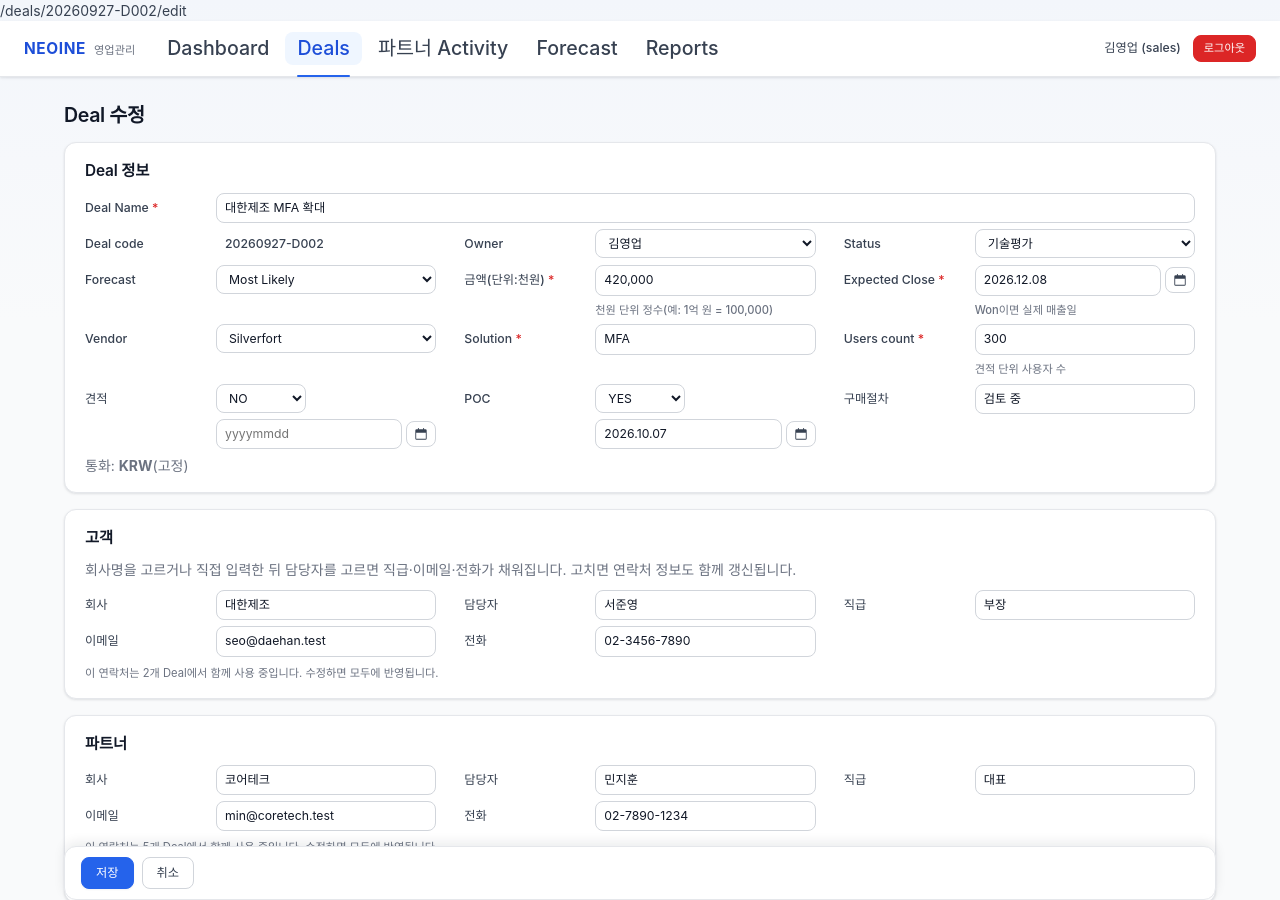
Test case: Status⇄Forecast 동기화 (T-SYNC-UI, 폼) › asks for revenue on 계약완료, then sets Forecast to Won and tells it is not saved yet
The image size is (1280, 900).
Expected: the heading "Deal 수정" is shown, [64,103,145,127]
Expected: the field labelled "Deal Name" is shown, [216,192,1195,223]
Select "계약완료" in the dropdown labelled "Status" at (1085, 243), box [975,229,1195,258]
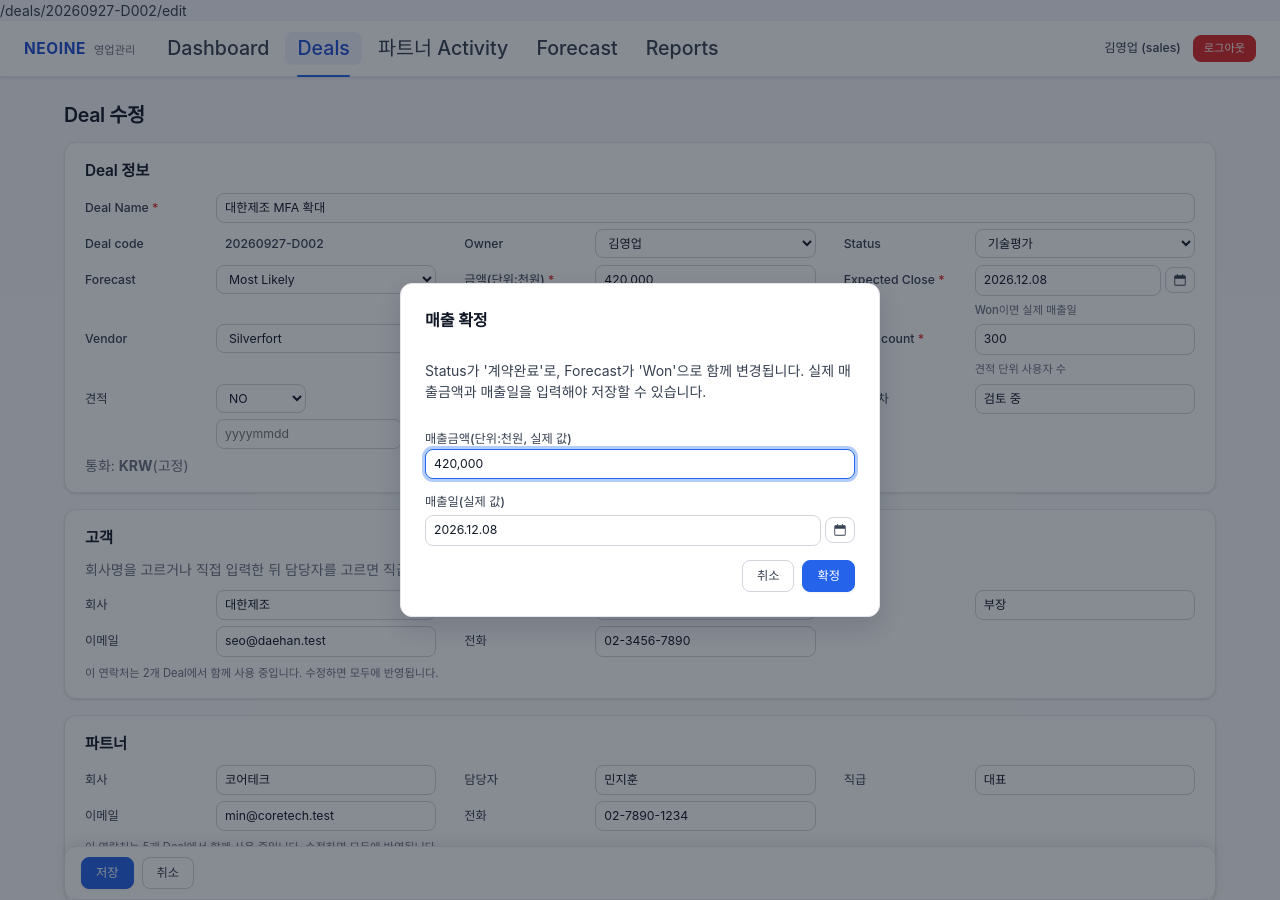
Click the button "확정" at (829, 576), box [802,560,855,592]
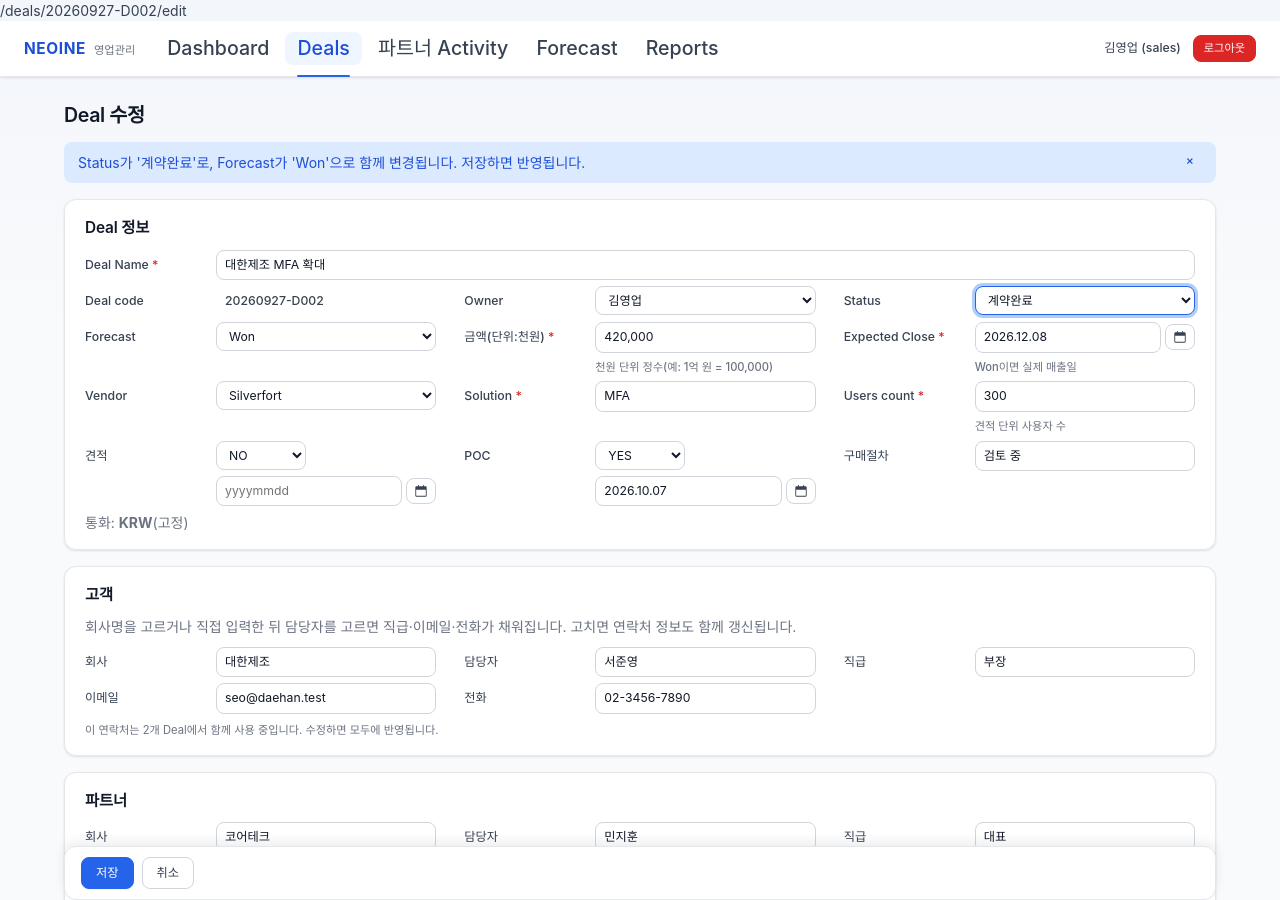
Now the dropdown labelled "Forecast" shows "Won", box [216,322,436,351]
Now the text "Status가 '계약완료'로, Forecast가 'Won'으로 함께 변경됩니다. 저장하면 반영됩니다." is shown, box [78,154,585,171]
